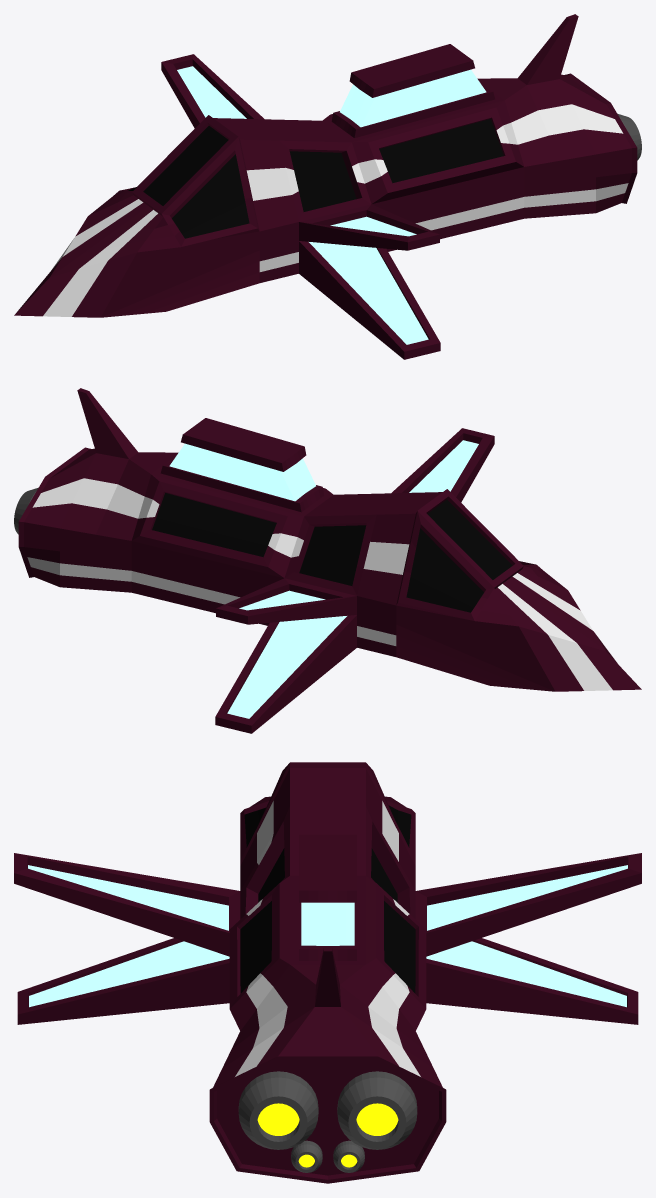
File: Spaceship01.fbx
3 renders of one model, top to bottom at view 1: azimuth 30°, elevation 25°; view 2: azimuth 150°, elevation 25°; view 3: azimuth 270°, elevation 25°, orthographic. The views are drawn at different scales.
Parts seen in each view (by area): view 1: Spaceship01; view 2: Spaceship01; view 3: Spaceship01.
Part boxes in pixels (<box>): Spaceship01: <box>14,14,641,359</box>; Spaceship01: <box>14,388,641,733</box>; Spaceship01: <box>14,762,641,1183</box>.
Bounding box in the file's own units: 2200 × 653 × 1572.
